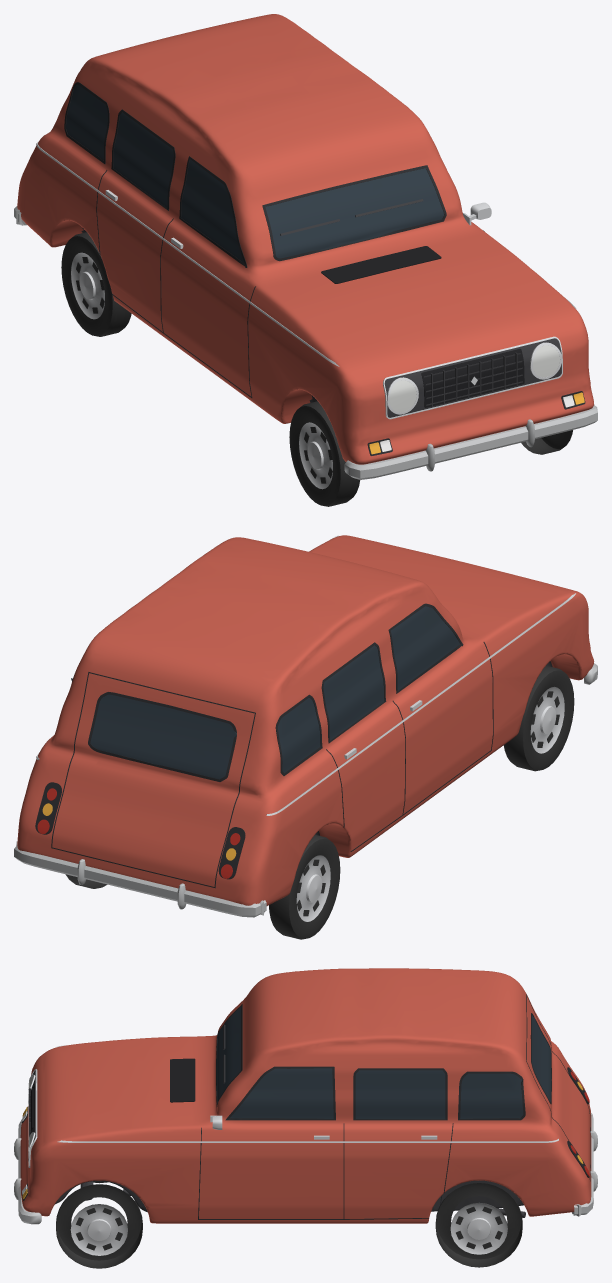
Rendered from renault4.glb.
The picture shows the model from 3 angles, top to bottom: view 1: azimuth 30°, elevation 25°; view 2: azimuth 150°, elevation 25°; view 3: azimuth 270°, elevation 25°; orthographic projection. The views are drawn at different scales.
Parts seen in each view (by area): view 1: paint, trim, glass, wheel_fr, wheel_rr, headlights, wheel_fl; view 2: paint, glass, trim, wheel_fr, wheel_rr; view 3: paint, glass, trim, wheel_rl, wheel_fl.
Boxes of the visible parts, x1=… form: paint: x1=17, y1=14, x2=594, y2=464; trim: x1=14, y1=82, x2=597, y2=479; glass: x1=66, y1=85, x2=443, y2=262; wheel_fr: x1=289, y1=401, x2=360, y2=506; wheel_rr: x1=61, y1=232, x2=131, y2=336; headlights: x1=389, y1=345, x2=559, y2=412; wheel_fl: x1=521, y1=430, x2=572, y2=454; paint: x1=17, y1=535, x2=594, y2=905; glass: x1=71, y1=606, x2=459, y2=779; trim: x1=14, y1=535, x2=597, y2=917; wheel_fr: x1=503, y1=665, x2=574, y2=771; wheel_rr: x1=269, y1=834, x2=340, y2=939; paint: x1=20, y1=968, x2=591, y2=1223; glass: x1=216, y1=1006, x2=551, y2=1118; trim: x1=14, y1=994, x2=597, y2=1224; wheel_rl: x1=435, y1=1183, x2=522, y2=1267; wheel_fl: x1=56, y1=1184, x2=142, y2=1268.
Size of the model in its own units: 1.52 by 1.55 by 3.69.
